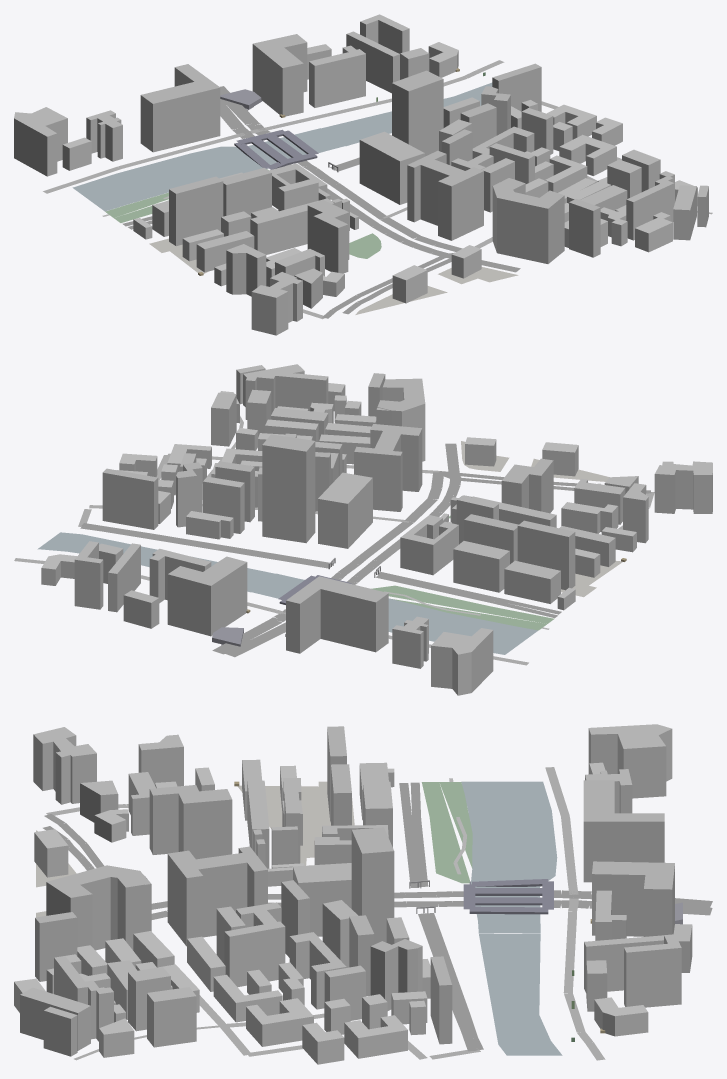
3 views of the same model, one above another, from view 1: azimuth 30°, elevation 25°; view 2: azimuth 150°, elevation 25°; view 3: azimuth 270°, elevation 25° (orthographic). The views are drawn at different scales.
Bounding box in the file's own units: 545 × 104 × 540.
